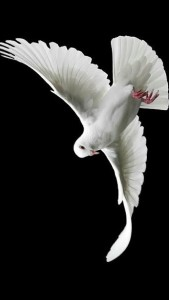pigeon: (0, 33, 168, 263)
